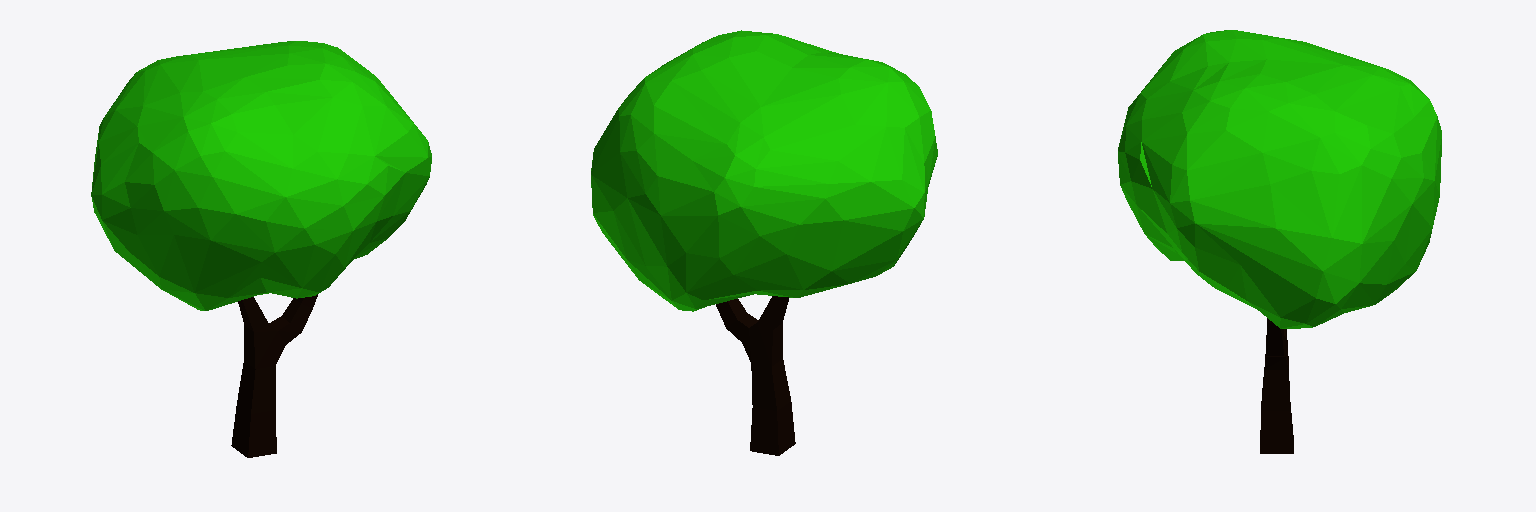
The model's file is Tree2.obj.
The picture shows the model from 3 angles: view 1: azimuth 30°, elevation 25°; view 2: azimuth 150°, elevation 25°; view 3: azimuth 270°, elevation 25°; orthographic projection.
Visible parts, largest first — view 1: Tree2_Plane; view 2: Tree2_Plane; view 3: Tree2_Plane.
Part boxes in pixels (x1,y1,x2,y2): Tree2_Plane: (91,41,431,457); Tree2_Plane: (591,30,937,455); Tree2_Plane: (1118,30,1441,453).
Size of the model in its own units: 15.11 by 17.9 by 13.66.